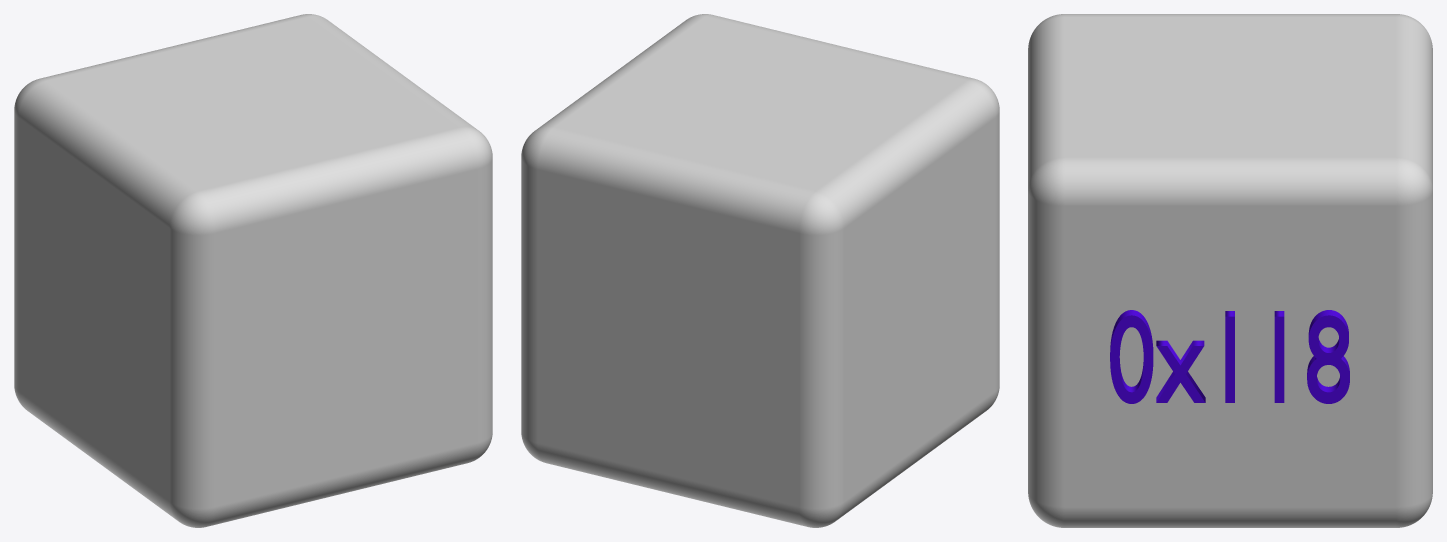
File: Instr13.fbx
The picture shows the model from 3 angles, left to right: view 1: azimuth 30°, elevation 25°; view 2: azimuth 150°, elevation 25°; view 3: azimuth 270°, elevation 25°; orthographic projection. The views are drawn at different scales.
Parts seen in each view (by area): view 1: Cube; view 2: Cube; view 3: Cube, Text.
Part boxes in pixels (bbox=[...]): Cube: bbox=[14, 14, 492, 527]; Cube: bbox=[521, 14, 999, 527]; Cube: bbox=[1028, 14, 1432, 527]; Text: bbox=[1110, 310, 1349, 403].
Bounding box in the file's own units: 69.29 × 67.15 × 67.15.
